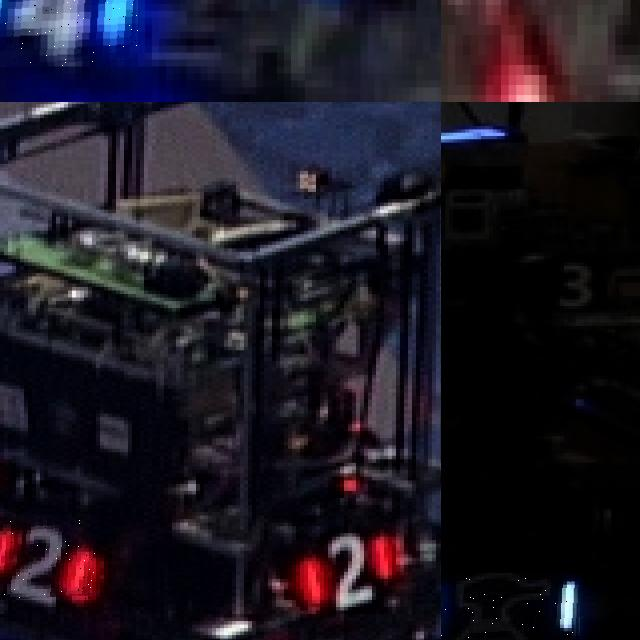B4: (0, 0, 145, 66)
Bs: (441, 572, 583, 640)
R2: (292, 517, 400, 602), (0, 514, 96, 602)
